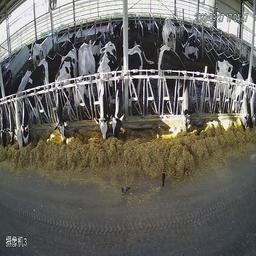cow: (110, 45, 145, 135), (156, 44, 191, 134), (215, 52, 250, 132), (22, 55, 48, 144), (67, 43, 92, 118), (48, 48, 68, 141), (99, 38, 112, 141), (7, 72, 17, 143), (179, 26, 201, 57), (14, 68, 22, 151), (160, 16, 181, 47), (0, 74, 7, 150), (91, 27, 107, 54), (28, 38, 44, 63), (110, 16, 123, 38), (67, 29, 77, 51)
